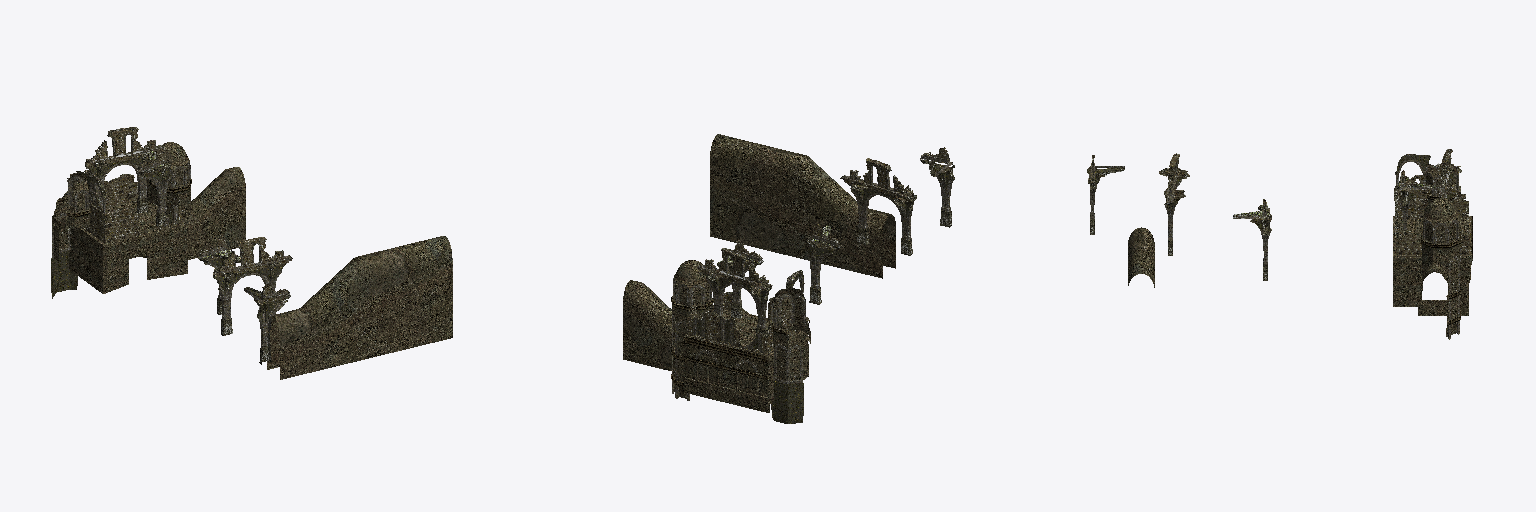
3 views of the same model, side by side, from view 1: azimuth 30°, elevation 25°; view 2: azimuth 150°, elevation 25°; view 3: azimuth 270°, elevation 25° (orthographic).
Parts seen in each view (by area): view 1: mesh20, mesh17, mesh2, mesh3, mesh4, mesh6, mesh11, mesh16, mesh12; view 2: mesh20, mesh2, mesh3, mesh17, mesh4, mesh12, mesh16, mesh11, mesh18, mesh6; view 3: mesh20, mesh17, mesh2, mesh3, mesh4, mesh12, mesh16.
Part boxes in pixels (x1,y1,x2,y2): mesh20: (52, 142, 452, 379); mesh17: (69, 192, 187, 293); mesh2: (74, 127, 291, 304); mesh3: (87, 133, 291, 348); mesh4: (85, 129, 292, 364); mesh6: (87, 156, 288, 323); mesh11: (51, 250, 77, 298); mesh16: (54, 166, 187, 261); mesh12: (52, 161, 190, 258); mesh20: (623, 134, 895, 412); mesh2: (685, 147, 950, 355); mesh3: (693, 155, 954, 351); mesh17: (683, 310, 807, 405); mesh4: (688, 152, 954, 345); mesh12: (671, 278, 805, 400); mesh16: (673, 283, 808, 380); mesh11: (771, 381, 803, 423); mesh18: (671, 293, 809, 386); mesh6: (697, 160, 952, 348); mesh20: (1128, 163, 1459, 336); mesh17: (1393, 216, 1472, 315); mesh2: (1088, 150, 1470, 256); mesh3: (1089, 156, 1468, 264); mesh4: (1088, 153, 1469, 280); mesh12: (1423, 172, 1460, 339); mesh16: (1426, 175, 1457, 293).
Bounding box in the file's own units: 42.81 × 26.43 × 59.47.
Materials: 21 (11 with a texture image).